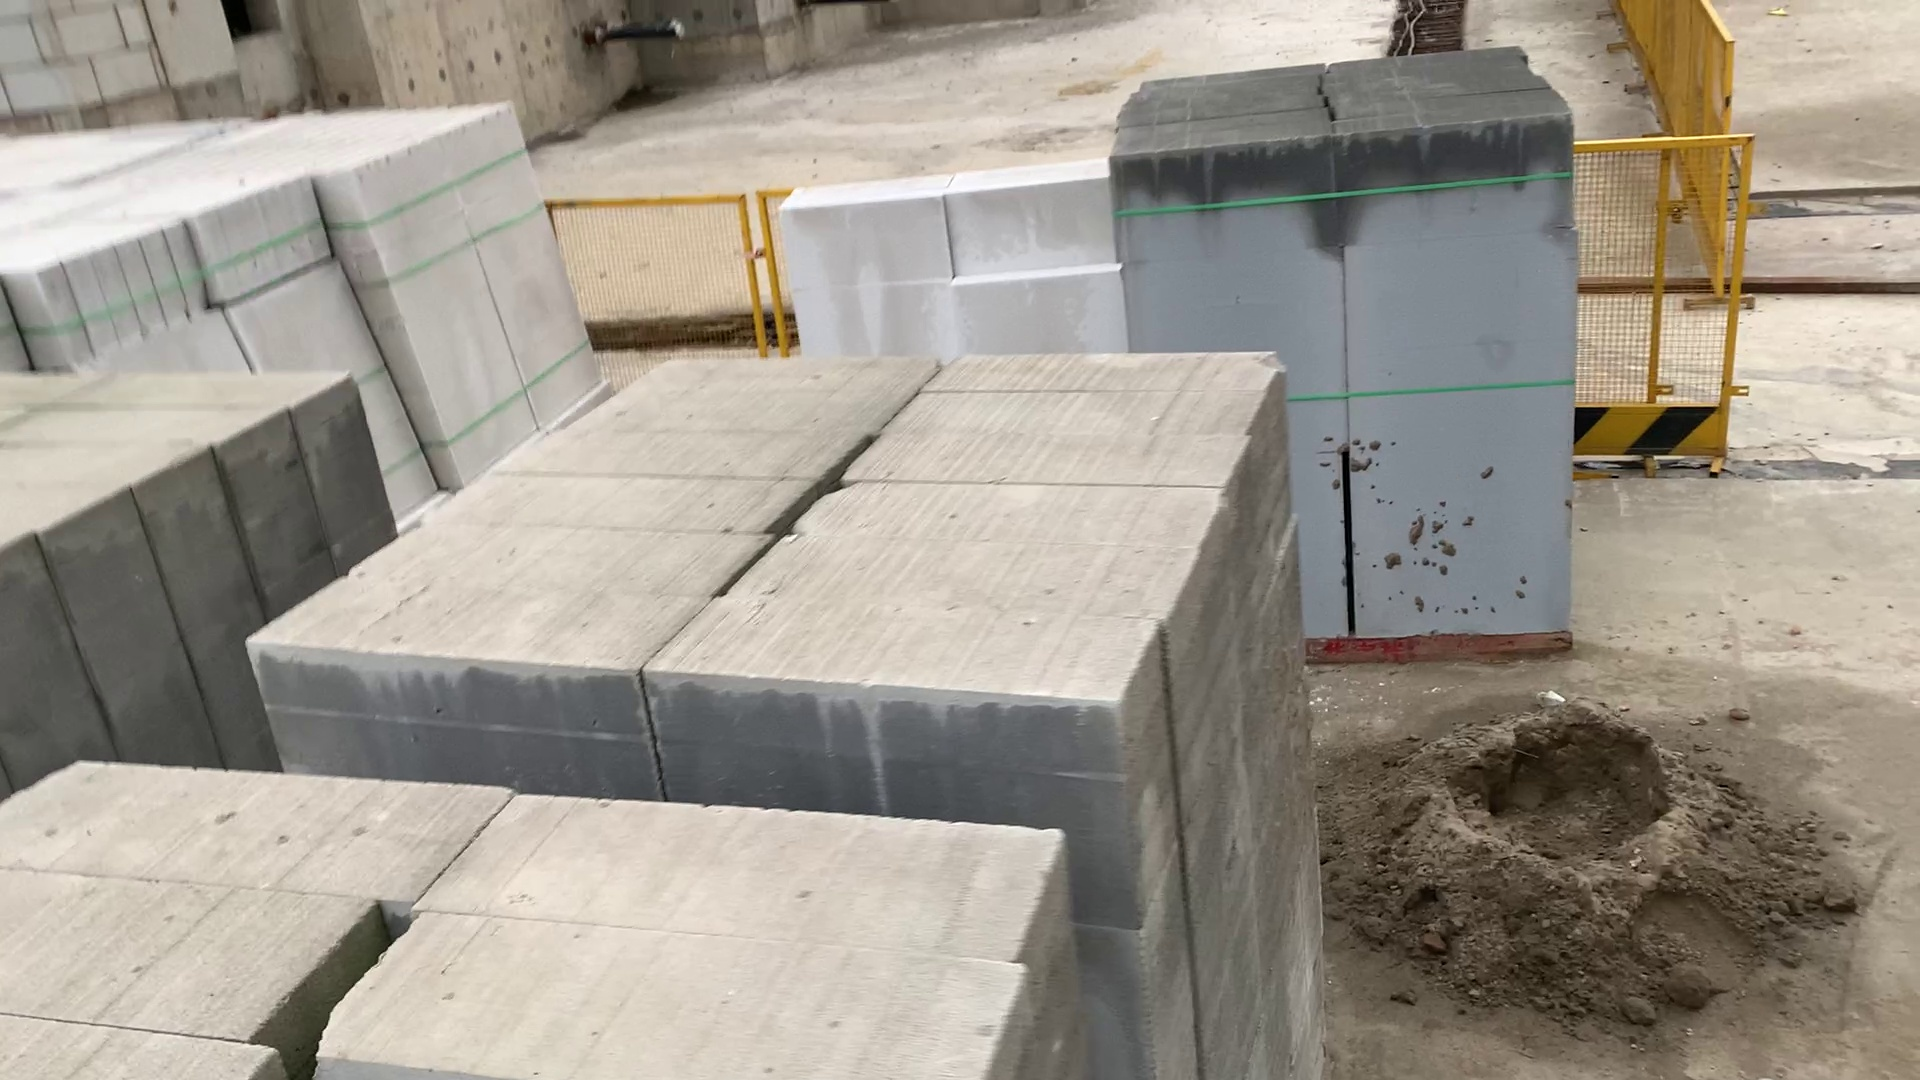brickwork: (268, 353, 1299, 754), (3, 757, 1015, 1080), (1118, 73, 1581, 327), (1, 368, 380, 653), (4, 179, 328, 320), (109, 105, 533, 170), (11, 129, 154, 175)
